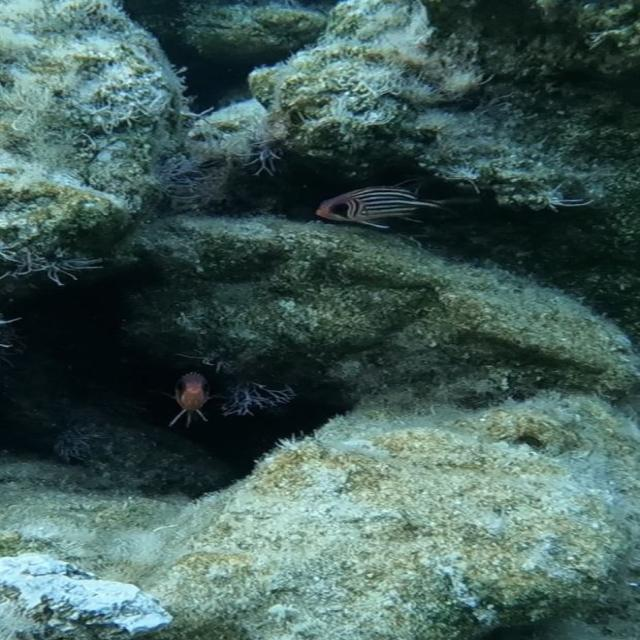Asker Baligi: (312, 180, 450, 230)
